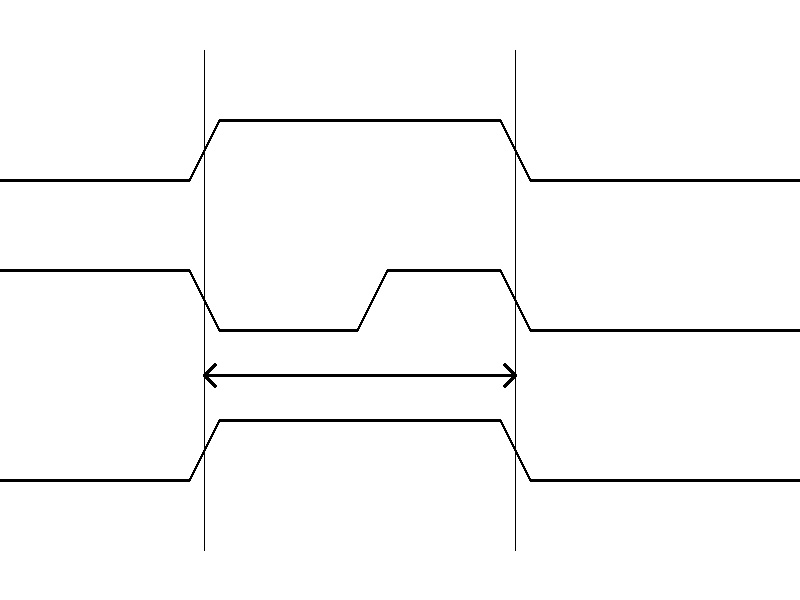double_arrow: (204, 360, 515, 390)
